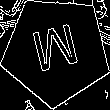M_S: (28, 20, 84, 81)
